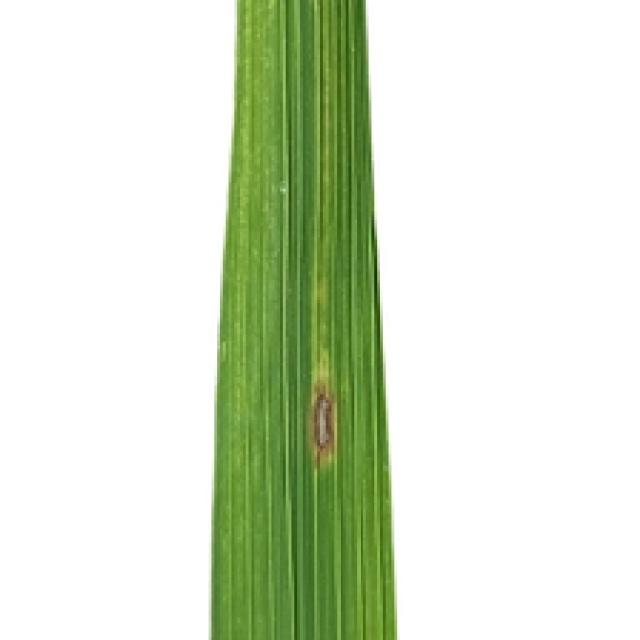Rice___Rice_Blast: (210, 0, 399, 637)
